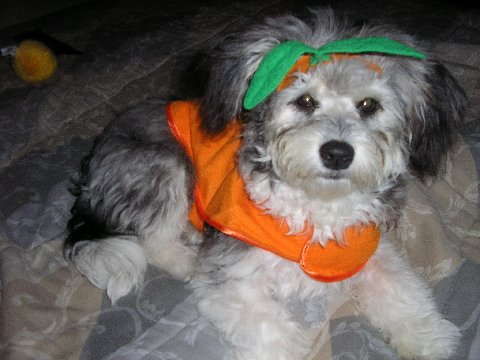dog: (62, 5, 469, 360)
